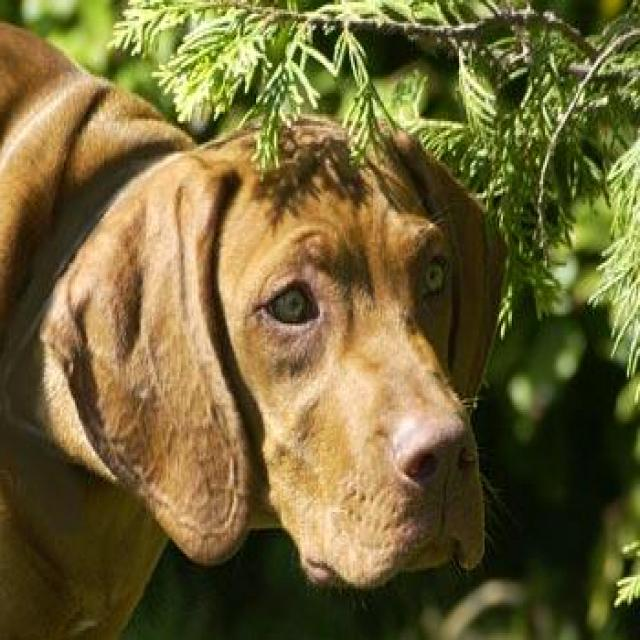vizsla: (2, 5, 512, 638)
